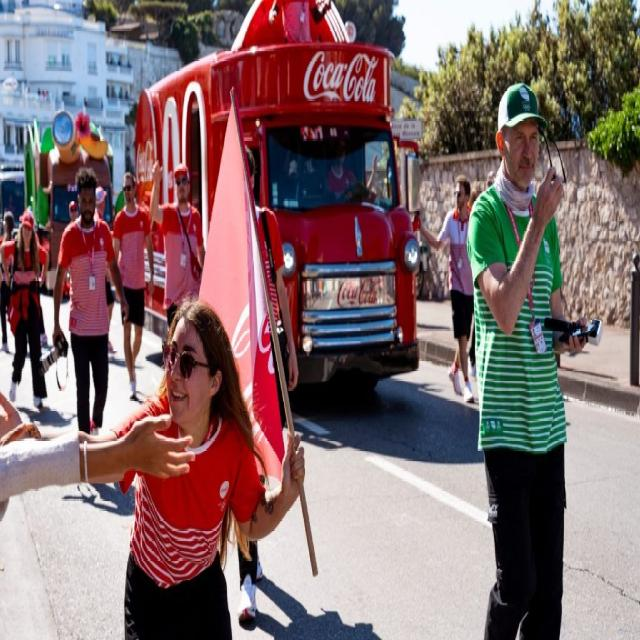coca cola: (301, 42, 384, 108)
